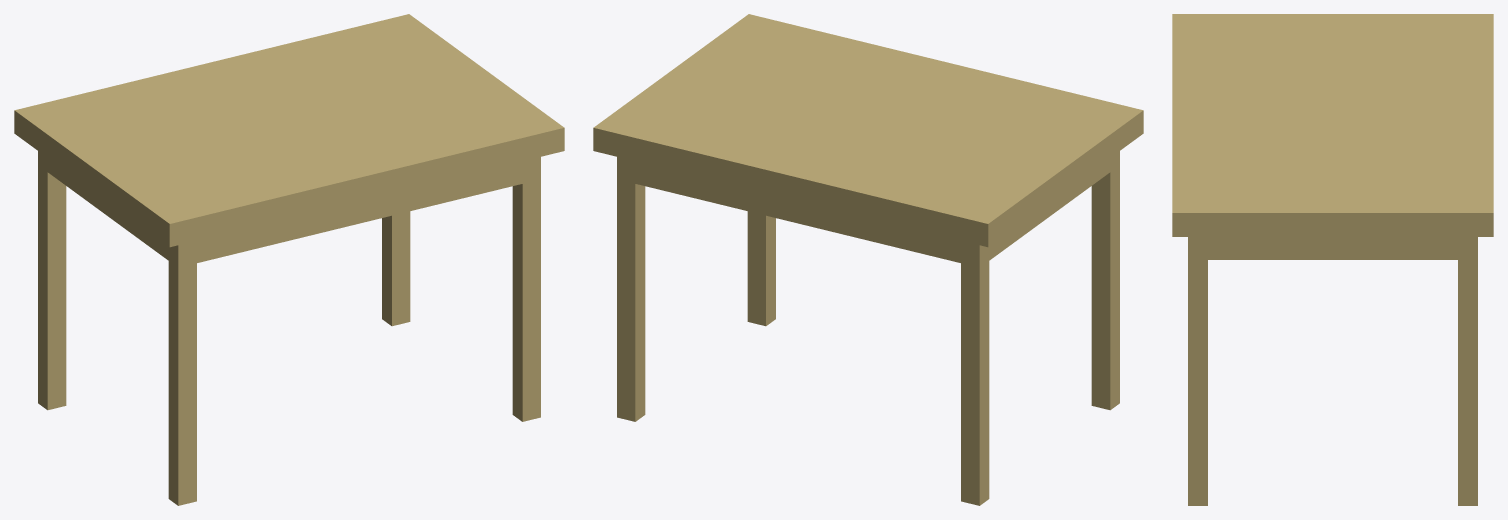
File: SM_Table.fbx
The picture shows the model from 3 angles, left to right: view 1: azimuth 30°, elevation 25°; view 2: azimuth 150°, elevation 25°; view 3: azimuth 270°, elevation 25°; orthographic projection. The views are drawn at different scales.
Parts seen in each view (by area): view 1: SM_Table; view 2: SM_Table; view 3: SM_Table.
Boxes of the visible parts, <box> form: SM_Table: <box>14,14,564,505</box>; SM_Table: <box>593,14,1143,505</box>; SM_Table: <box>1172,14,1493,505</box>.
Size of the model in its own units: 539 by 380 by 367.
